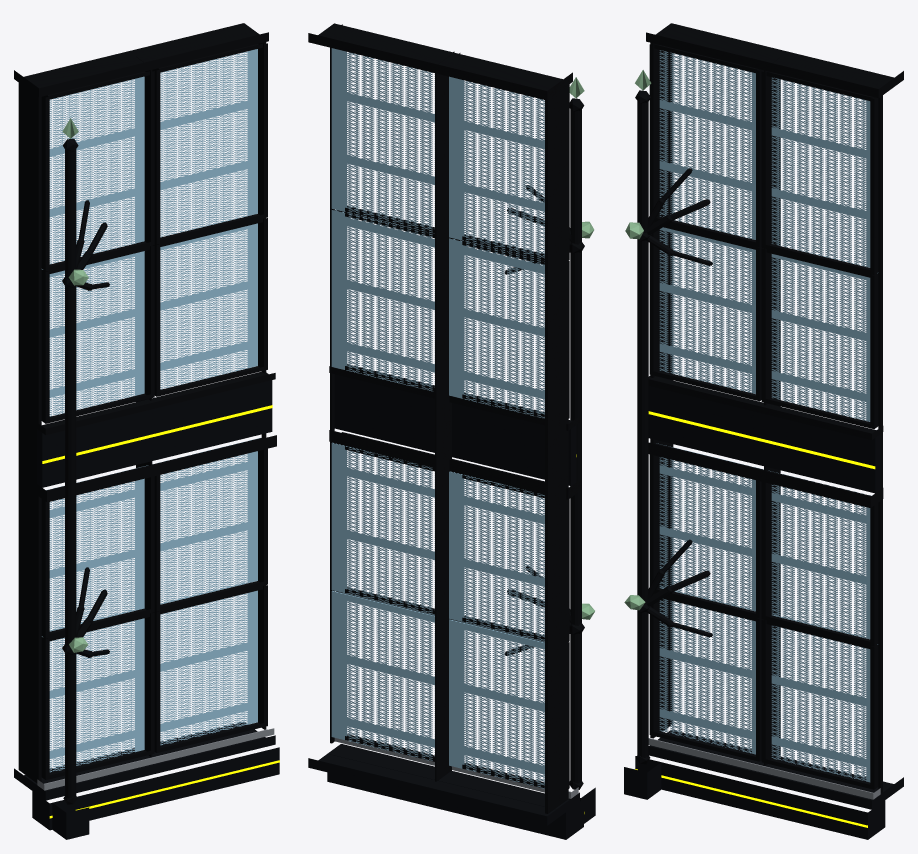
File: tt_facade_bay.glb
The picture shows the model from 3 angles, left to right: view 1: azimuth 30°, elevation 25°; view 2: azimuth 150°, elevation 25°; view 3: azimuth 330°, elevation 25°; orthographic projection. The views are drawn at different scales.
Parts seen in each view (by area): view 1: Frame, Pane_Scissor_31, Pane_Scissor_21, Pane_Scissor_30, Pane_Scissor_01, Pane_Scissor_11, Spandrel_Band, Pane_Scissor_20, Plinth_Ledge, Pane_Scissor_00, Branch_Trunk, Pane_Scissor_10 (+5 smaller); view 2: Frame, Pane_Scissor_31, Pane_Scissor_21, Pane_Scissor_30, Pane_Scissor_01, Pane_Scissor_20, Pane_Scissor_11, Pane_Scissor_00, Pane_Scissor_10, Spandrel_Band, Plinth_Ledge, Branch_Trunk (+2 smaller); view 3: Frame, Pane_Scissor_31, Pane_Scissor_30, Pane_Scissor_21, Spandrel_Band, Pane_Scissor_20, Pane_Scissor_01, Pane_Scissor_11, Branch_Trunk, Pane_Scissor_00, Plinth_Ledge, Pane_Scissor_10 (+5 smaller).
Part boxes in pixels (bbox=[...]): Frame: bbox=[14, 23, 276, 783]; Pane_Scissor_31: bbox=[160, 49, 257, 237]; Pane_Scissor_21: bbox=[160, 223, 257, 389]; Pane_Scissor_30: bbox=[49, 76, 144, 264]; Pane_Scissor_01: bbox=[160, 590, 257, 745]; Pane_Scissor_11: bbox=[157, 438, 259, 604]; Spandrel_Band: bbox=[37, 380, 272, 487]; Pane_Scissor_20: bbox=[42, 251, 144, 416]; Plinth_Ledge: bbox=[14, 722, 279, 830]; Pane_Scissor_00: bbox=[42, 618, 144, 772]; Branch_Trunk: bbox=[62, 138, 109, 804]; Pane_Scissor_10: bbox=[46, 465, 147, 631]; Frame: bbox=[308, 23, 581, 813]; Pane_Scissor_31: bbox=[331, 48, 434, 233]; Pane_Scissor_21: bbox=[331, 210, 434, 391]; Pane_Scissor_30: bbox=[449, 76, 544, 260]; Pane_Scissor_01: bbox=[331, 590, 434, 760]; Pane_Scissor_20: bbox=[449, 238, 544, 418]; Pane_Scissor_11: bbox=[331, 442, 434, 615]; Pane_Scissor_00: bbox=[449, 619, 544, 788]; Pane_Scissor_10: bbox=[449, 471, 544, 641]; Spandrel_Band: bbox=[334, 374, 576, 485]; Plinth_Ledge: bbox=[308, 744, 583, 839]; Branch_Trunk: bbox=[504, 98, 584, 789]; Frame: bbox=[646, 23, 903, 793]; Pane_Scissor_31: bbox=[771, 77, 870, 267]; Pane_Scissor_30: bbox=[659, 50, 755, 239]; Pane_Scissor_21: bbox=[771, 254, 878, 421]; Spandrel_Band: bbox=[648, 386, 880, 493]; Pane_Scissor_20: bbox=[659, 227, 755, 393]; Pane_Scissor_01: bbox=[771, 625, 877, 782]; Pane_Scissor_11: bbox=[768, 470, 871, 639]; Branch_Trunk: bbox=[635, 90, 712, 764]; Pane_Scissor_00: bbox=[659, 598, 755, 754]; Plinth_Ledge: bbox=[635, 730, 903, 839]; Pane_Scissor_10: bbox=[656, 443, 763, 611].
Size of what is drawn, in the model's own units: 4 by 12.2 by 1.66.
Materials: 7 (3 with a texture image).
